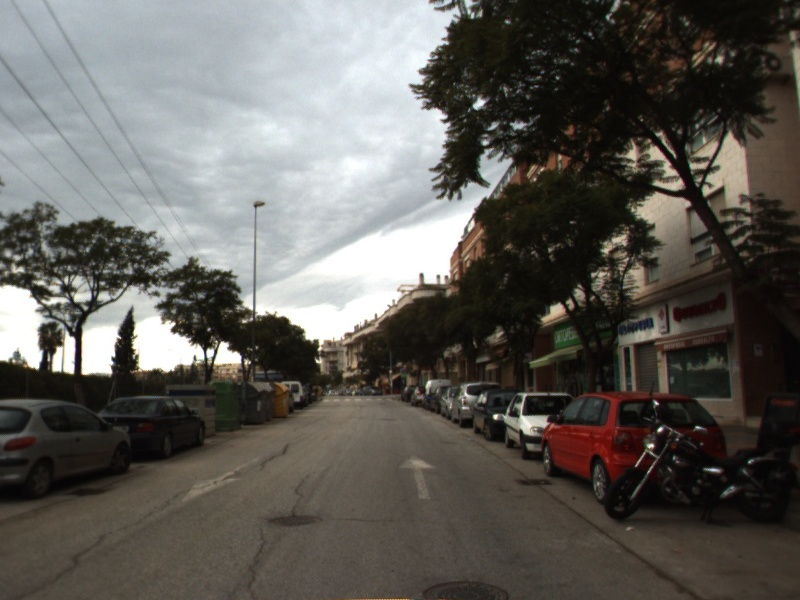STRAIGHT: (396, 451, 441, 502)
